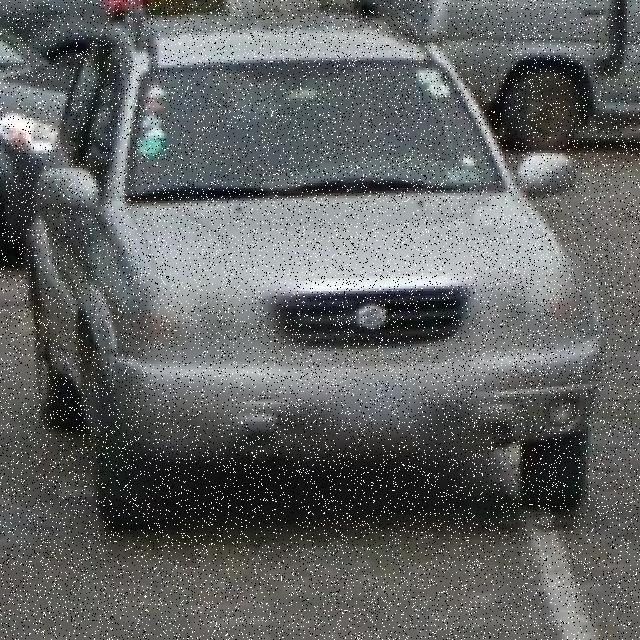cars: (25, 23, 600, 559)
